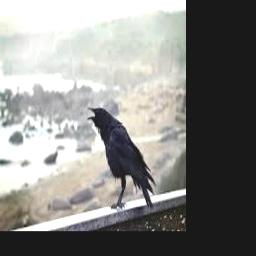Crow: (86, 105, 156, 211)
